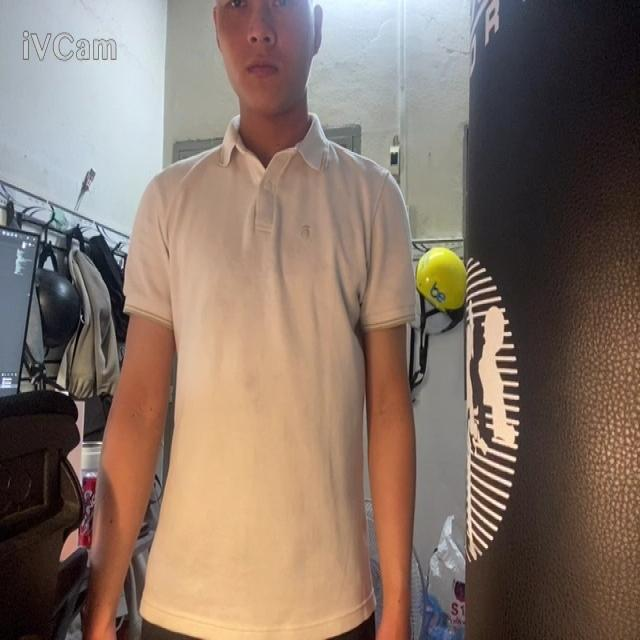u: (125, 116, 415, 639)
